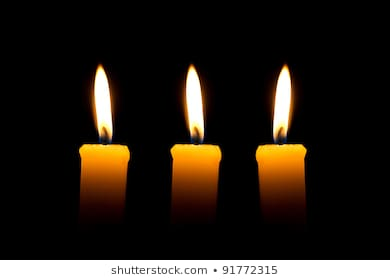Fire: (271, 60, 298, 140), (180, 60, 205, 143), (89, 65, 116, 140)
